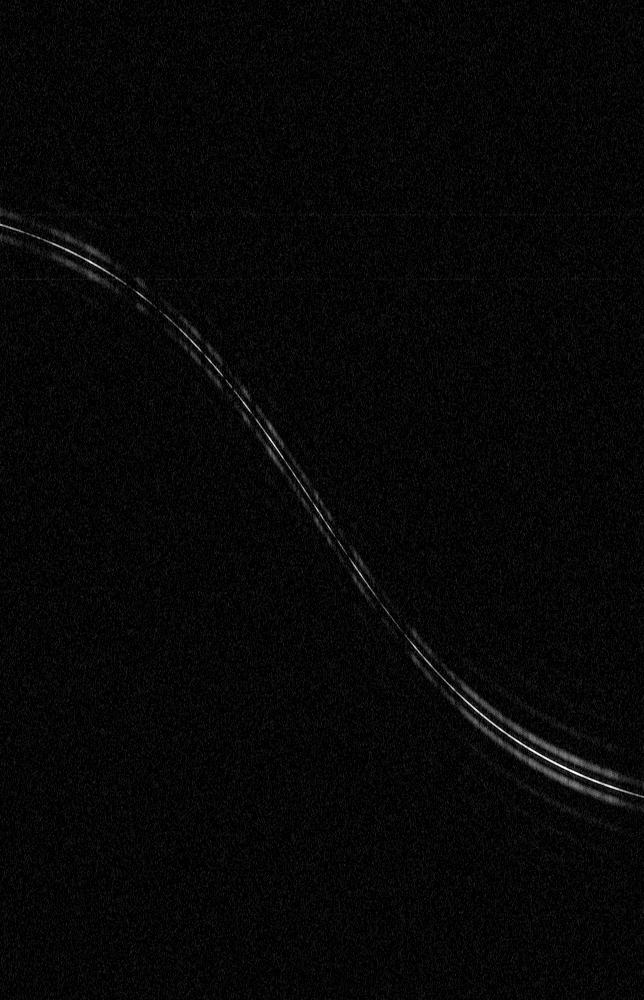signal: (0, 0, 643, 999)
